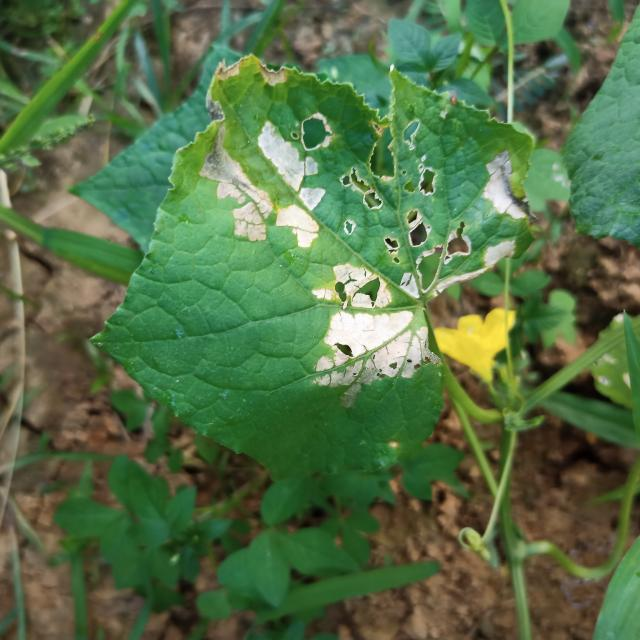disease_cucumber: (205, 74, 521, 307), (304, 306, 437, 416)
